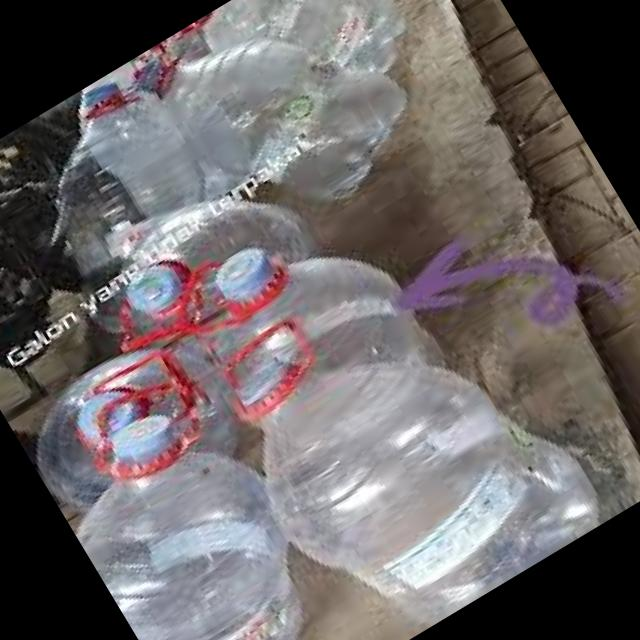Galon: (20, 180, 592, 640), (11, 0, 485, 323)
